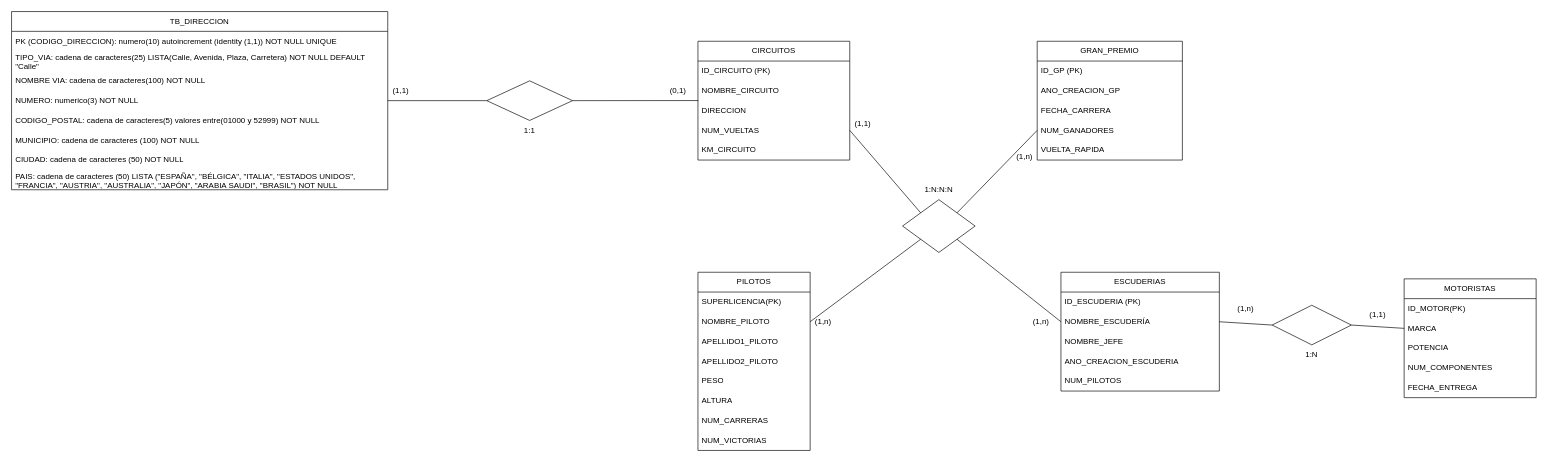
Some shapes in this 1548 by 462 pixel diagram are drawn without their labels. Here are the shapes that lost their labels. From the top down, the centre of each, then its label:
At point (529, 100): "SE UBICA".
At point (938, 225): "PARTICIPA".
At point (1311, 325): "SUMINISTRA".
